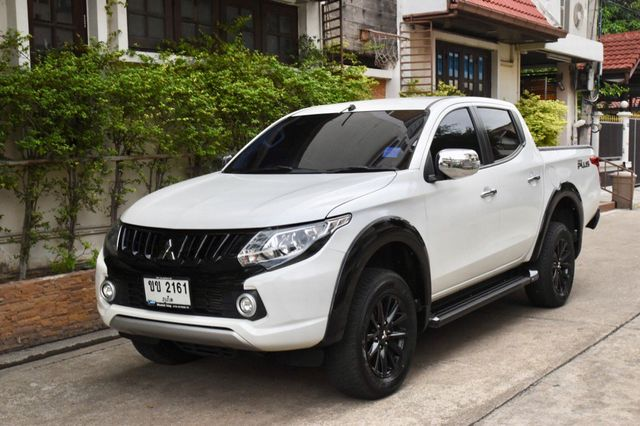pickup: (91, 95, 605, 403)
